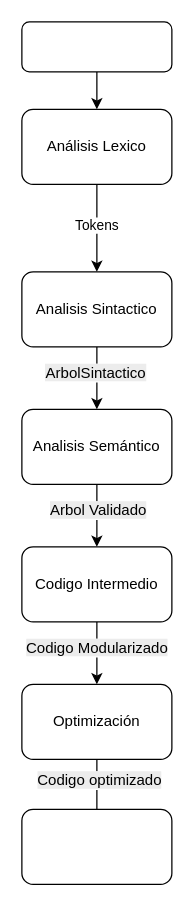
This 194x906 diagram has some shape labels left out. Each missing label, with the centre of its shape:
"Código Fuente" goes at [96,46].
"Generación de código maquina" goes at [96,846].
